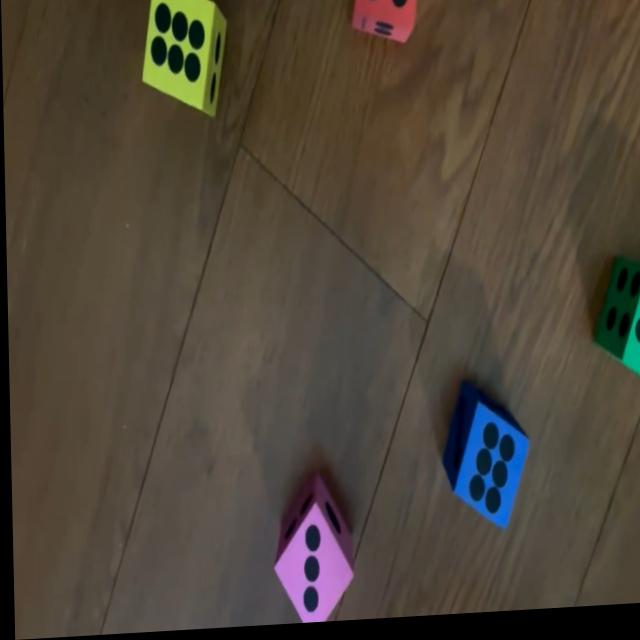blue_block: (440, 394, 529, 540)
red_block: (348, 0, 419, 50)
